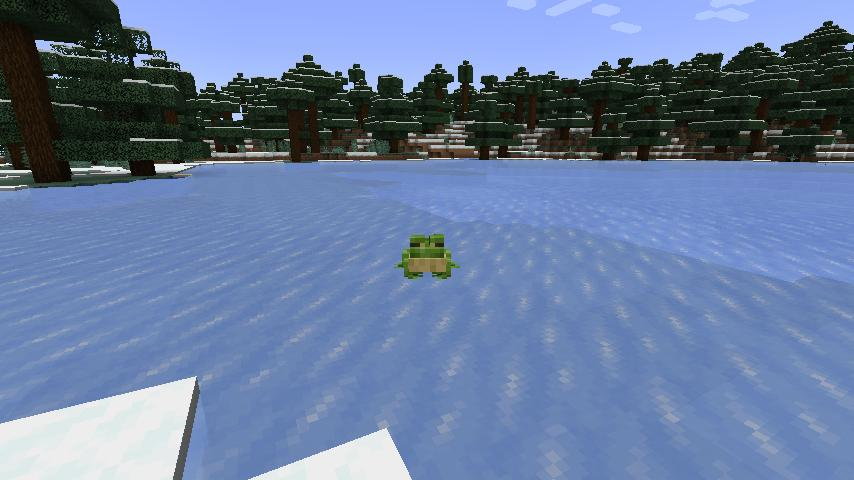frog: (396, 229, 463, 285)
